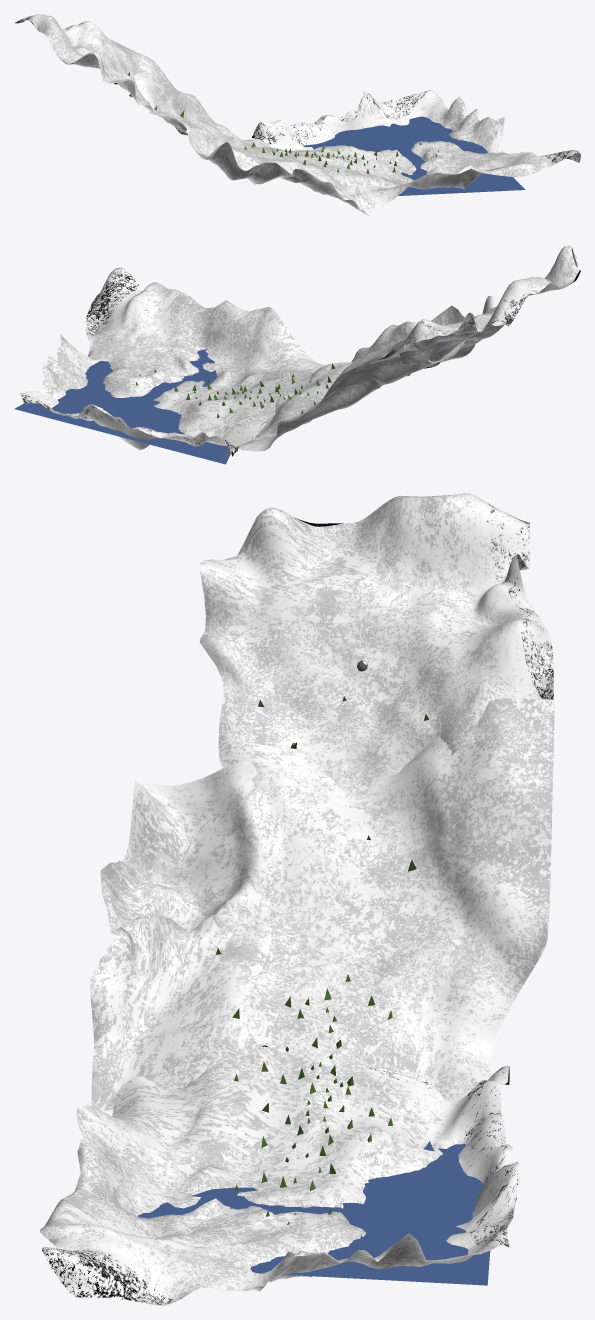
File: ski_map.glb
3 renders of one model, top to bottom at view 1: azimuth 30°, elevation 25°; view 2: azimuth 150°, elevation 25°; view 3: azimuth 270°, elevation 25°, orthographic. The views are drawn at different scales.
Visible parts, largest first — view 1: Landscape.001, Landscape.003, Plane, Landscape.002; view 2: Landscape.001, Landscape.003, Plane, Landscape.002; view 3: Landscape.003, Landscape.002, Landscape.001, Plane.
Part boxes in pixels (bbox=[...]): Landscape.001: bbox=[251, 90, 580, 209]; Landscape.003: bbox=[107, 37, 368, 215]; Plane: bbox=[303, 116, 525, 195]; Landscape.002: bbox=[14, 14, 190, 135]; Landscape.001: bbox=[19, 267, 325, 456]; Landscape.003: bbox=[220, 295, 504, 458]; Plane: bbox=[14, 349, 230, 464]; Landscape.002: bbox=[368, 245, 580, 368]; Landscape.003: bbox=[90, 698, 554, 1110]; Landscape.002: bbox=[199, 493, 553, 796]; Landscape.001: bbox=[40, 1045, 519, 1305]; Plane: bbox=[138, 1141, 496, 1285].
Size of the model in its own units: 34.34 by 15.3 by 16.9.
Materials: 17 (2 with a texture image).
